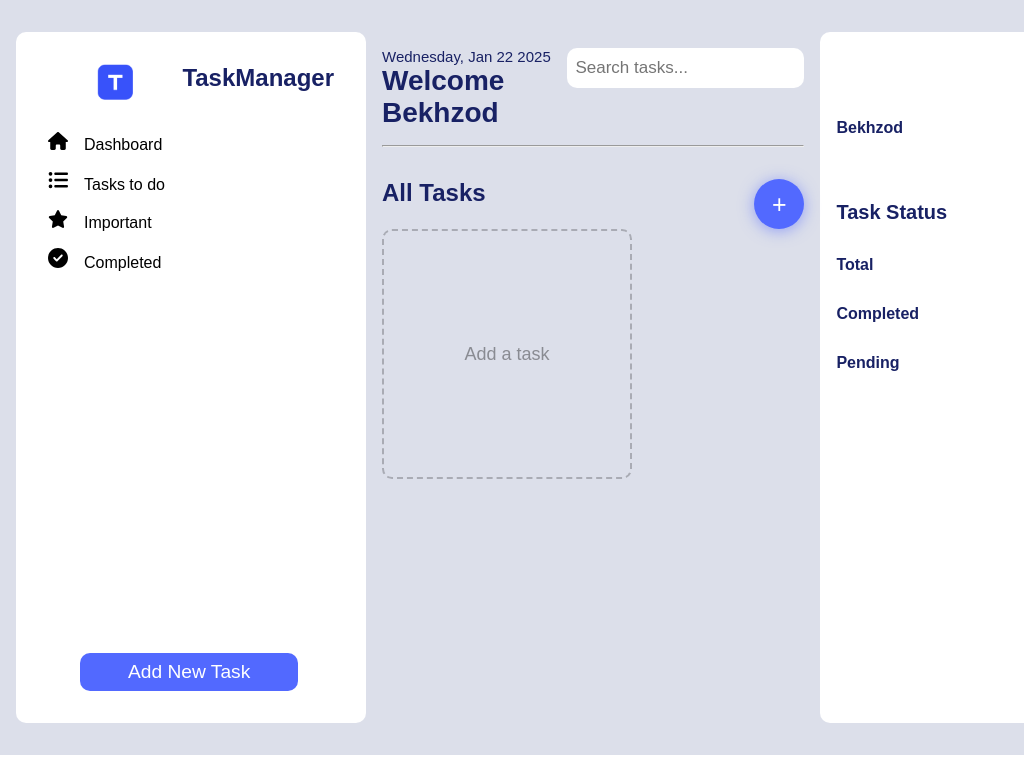
Test: Dashboard Component › Clicking 'Close' button closes the modal
Click the button "Add New Task".
click(189, 672)  # box [80,653,298,691]
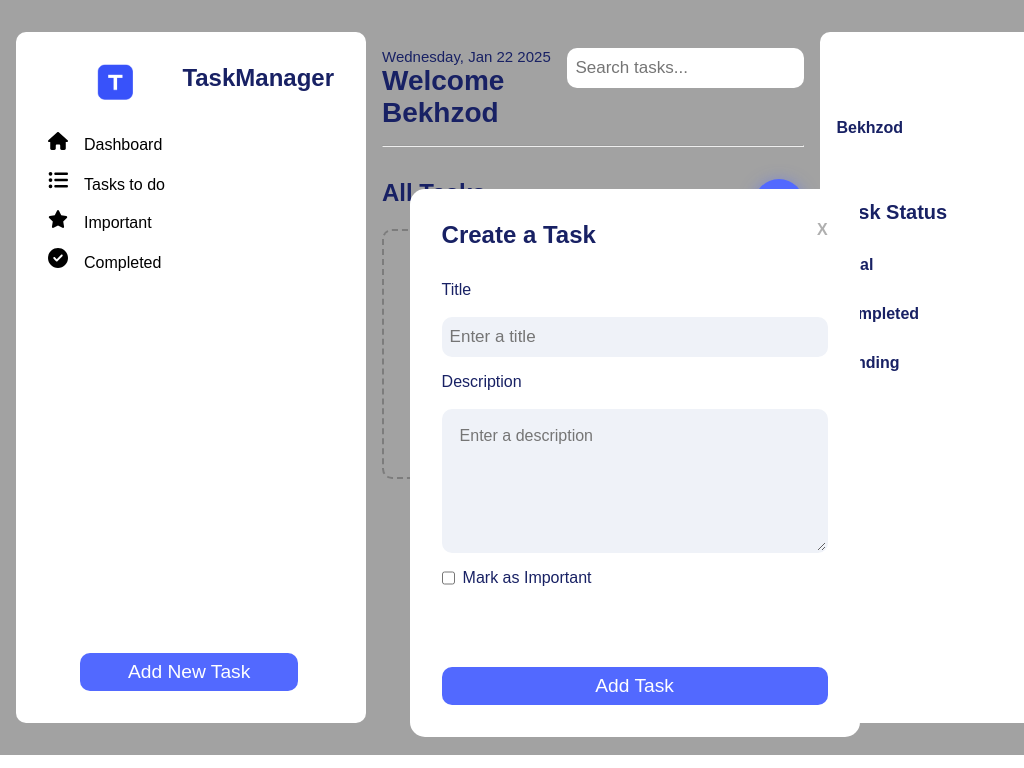
Click the text "X".
click(822, 235)  # box [817,221,828,249]
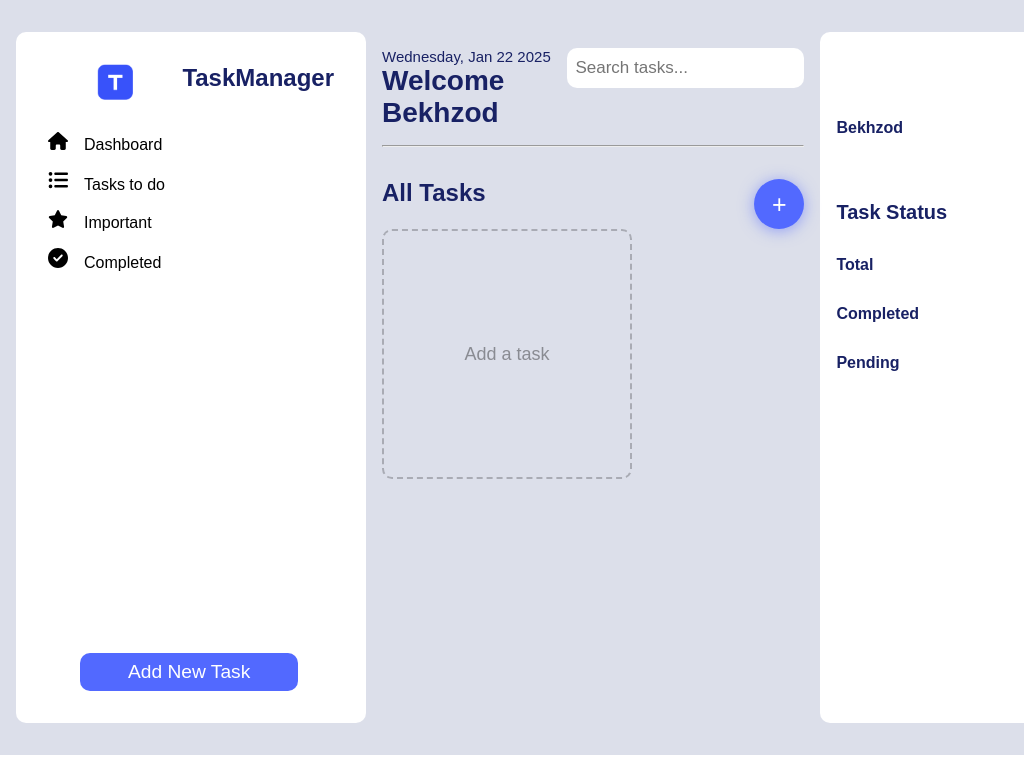
Check: the dialog is gone
